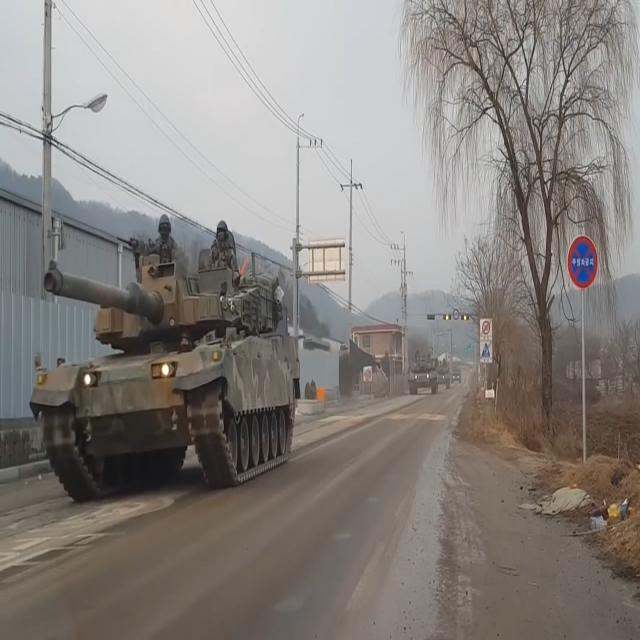korea tank: (28, 206, 305, 510)
